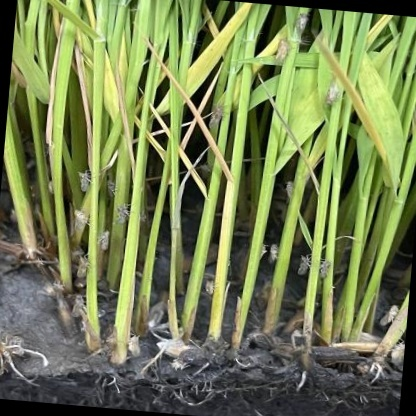Brown_hopper: (197, 100, 231, 133), (64, 252, 98, 284), (267, 38, 298, 70), (318, 80, 345, 111), (89, 226, 117, 254), (374, 301, 403, 328), (64, 292, 91, 321), (121, 332, 148, 361), (313, 252, 335, 282), (291, 253, 315, 280), (276, 178, 299, 206), (110, 202, 136, 226), (384, 339, 404, 368), (162, 356, 194, 374), (42, 279, 69, 300), (99, 177, 121, 201), (67, 211, 91, 233), (97, 333, 119, 357), (263, 244, 284, 268), (248, 242, 268, 265), (75, 169, 93, 194), (199, 280, 217, 298), (195, 161, 217, 175), (41, 176, 55, 198)
